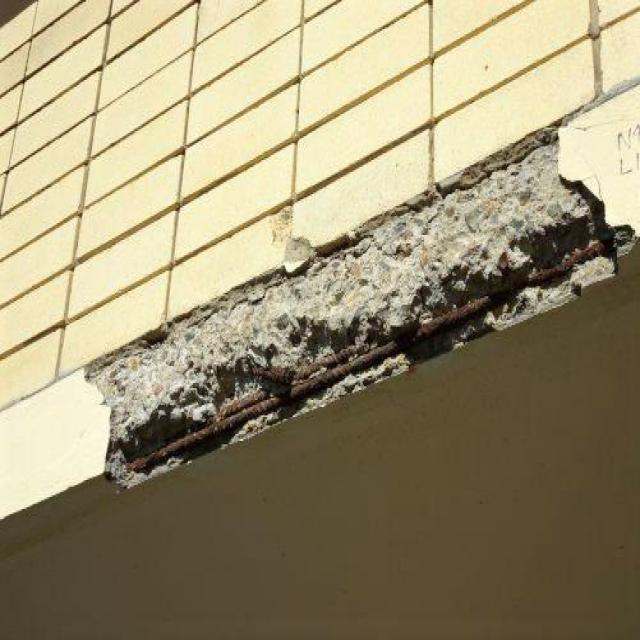Rebar: (83, 124, 639, 487)
